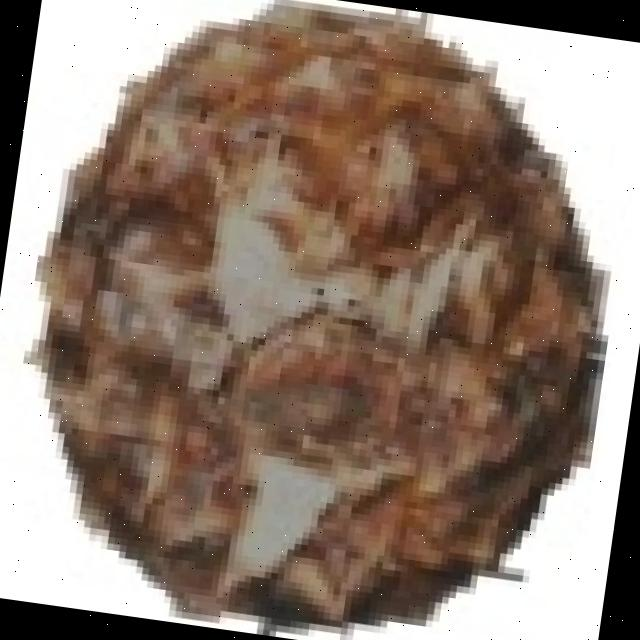pineapple: (26, 0, 583, 612)
